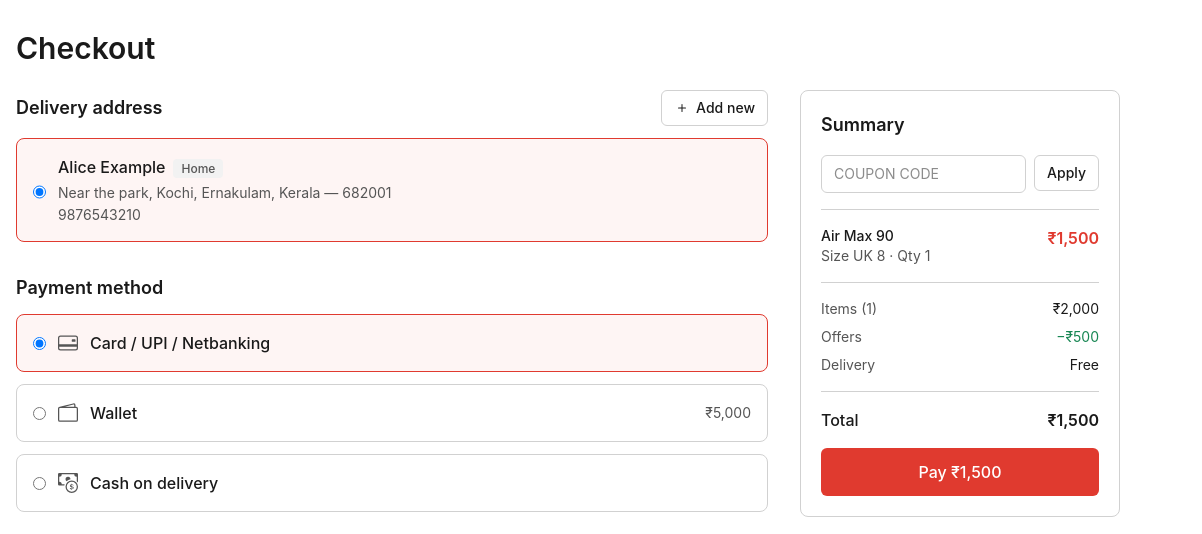
Test: CheckoutPage › reports a rejected coupon in the server own words
Type "SAVE10" into the field labelled "Coupon code" at (924, 174), box [821, 155, 1026, 193]
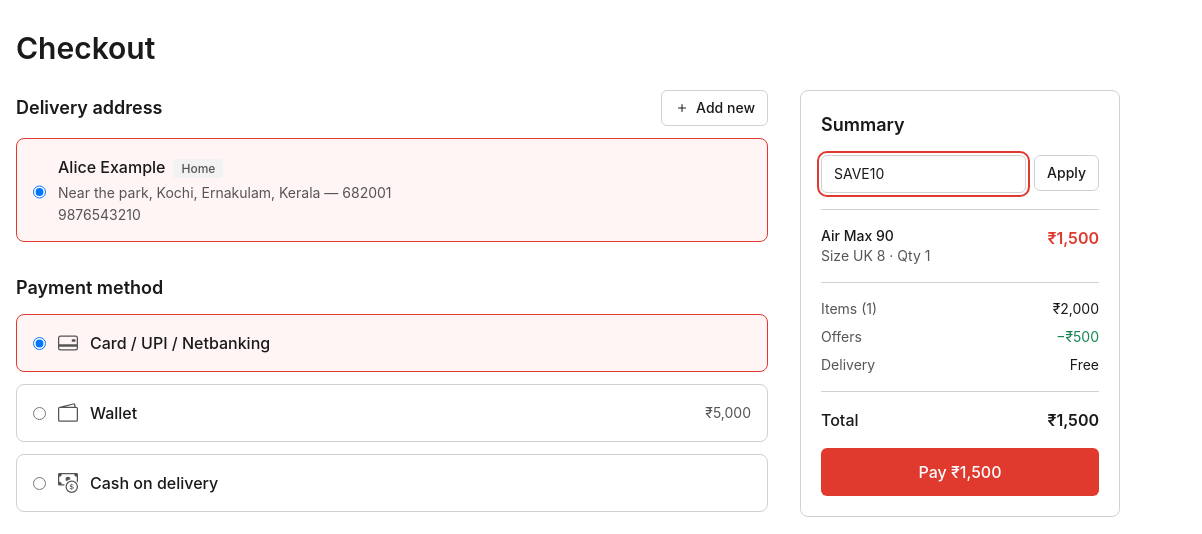
Click the button "Apply" at (1067, 173), box [1034, 155, 1099, 191]
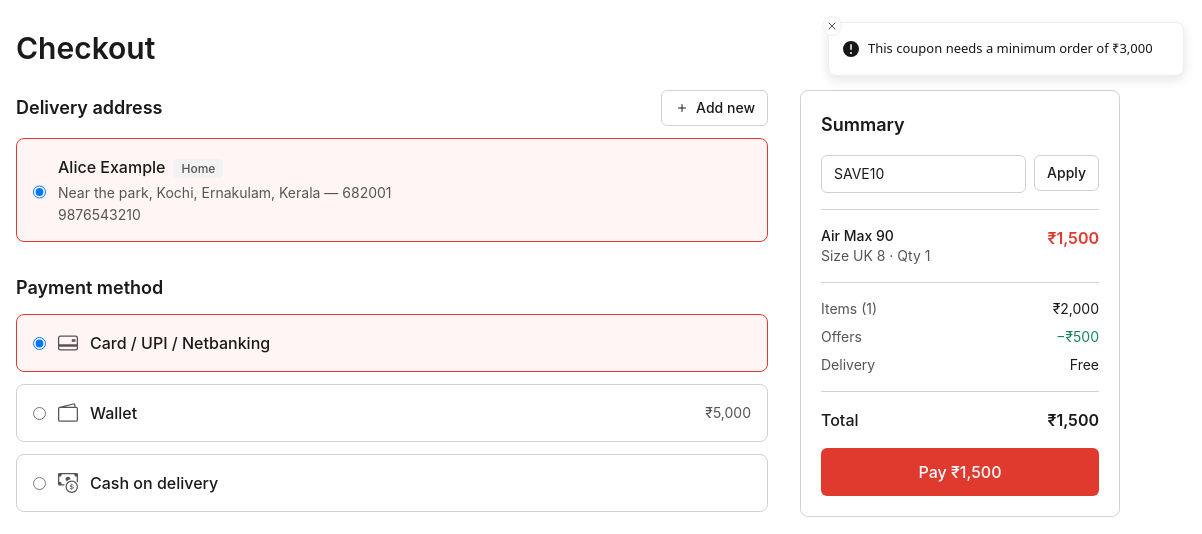
expect the text "This coupon needs a minimum order of ₹3,000" is shown: met, box [868, 39, 1153, 58]
